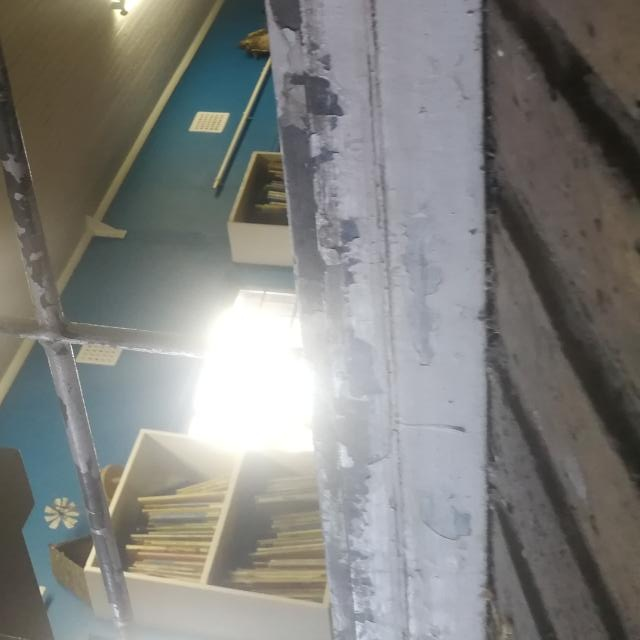fluorescent tube: (89, 0, 218, 27)
